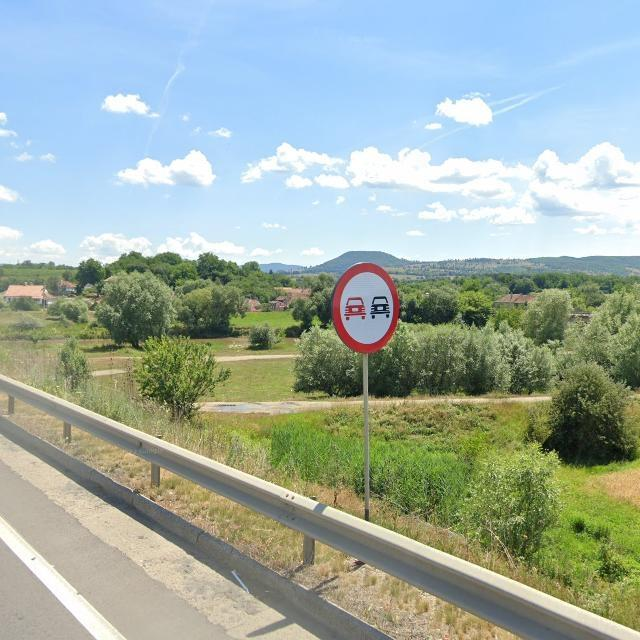forb_overtake: (332, 262, 397, 355)
